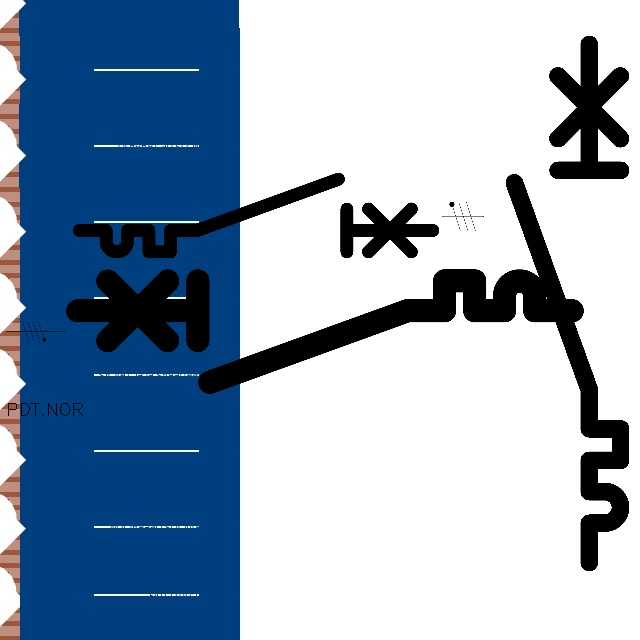interruptor_termomagnetico: (501, 31, 634, 576), (64, 268, 584, 395), (70, 170, 441, 261)
